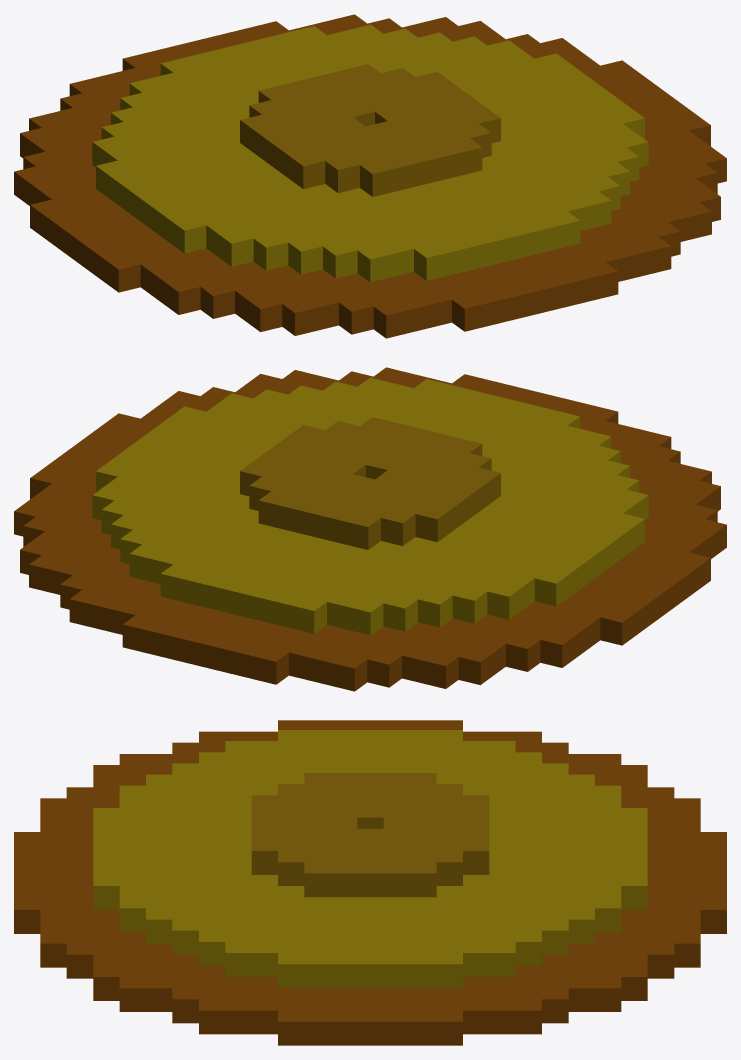
File: platform_1.obj
The picture shows the model from 3 angles, top to bottom: view 1: azimuth 30°, elevation 25°; view 2: azimuth 150°, elevation 25°; view 3: azimuth 270°, elevation 25°; orthographic projection. The views are drawn at different scales.
Visible parts, largest first — view 1: platform_1; view 2: platform_1; view 3: platform_1.
Part boxes in pixels (box(x1,y1,x2,y2)): platform_1: box(14, 14, 726, 338); platform_1: box(14, 367, 726, 691); platform_1: box(14, 720, 726, 1045).
Size of the model in its own units: 27 by 3 by 27.
1 material, 1 textured.
